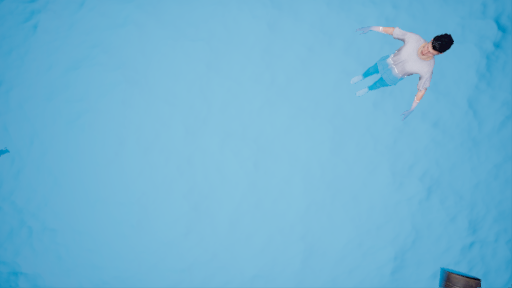person: (352, 20, 451, 125)
